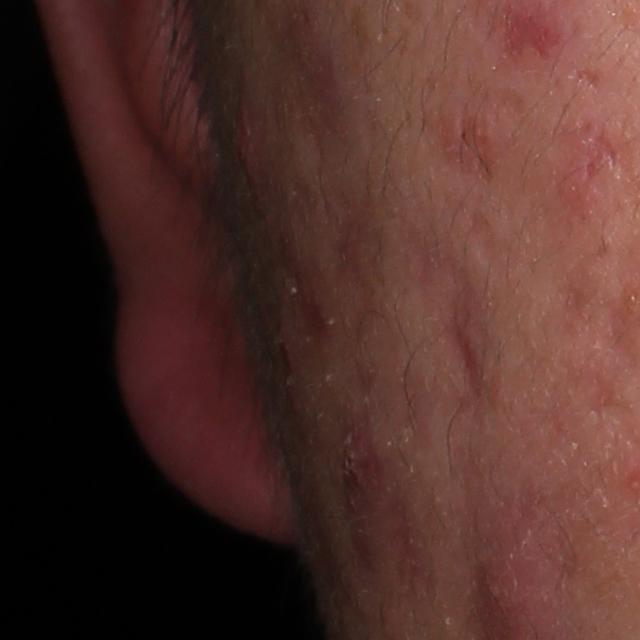atrophic_scar: (438, 275, 488, 394), (464, 204, 511, 271), (569, 123, 625, 171), (576, 375, 620, 432), (567, 66, 604, 90)
